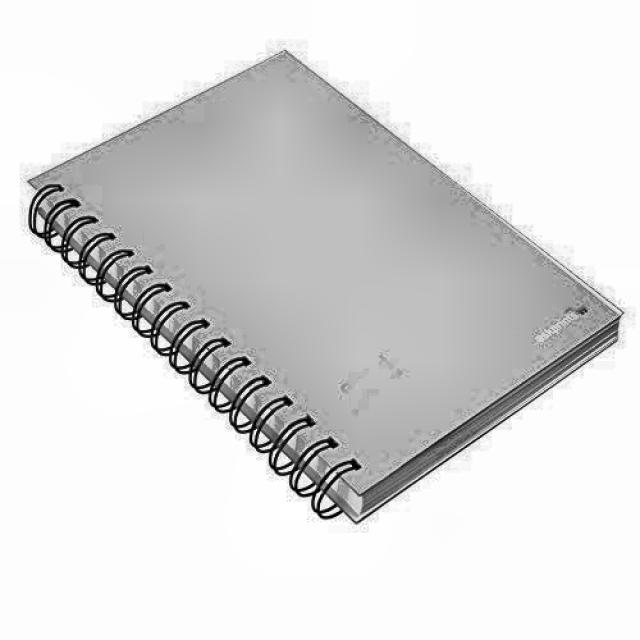Notebook: (2, 29, 640, 560)
